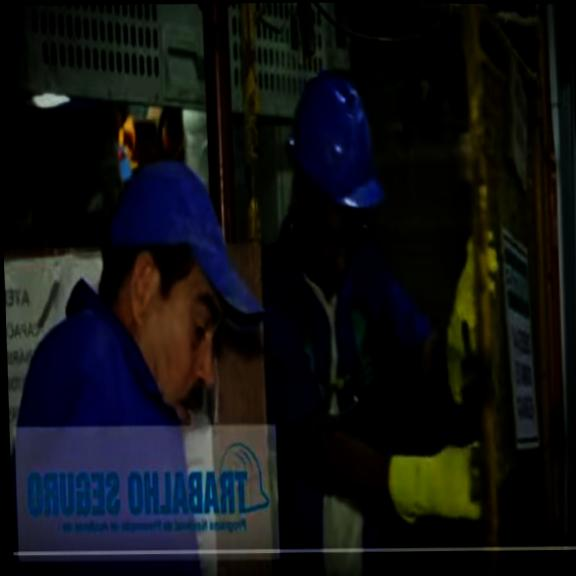no_safety_vest: (264, 227, 448, 576), (5, 270, 207, 576)
